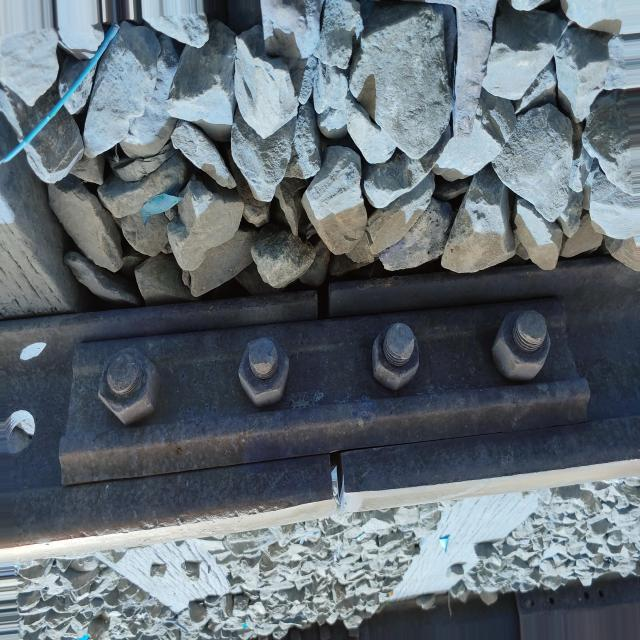Good Joint: (60, 293, 594, 486)
